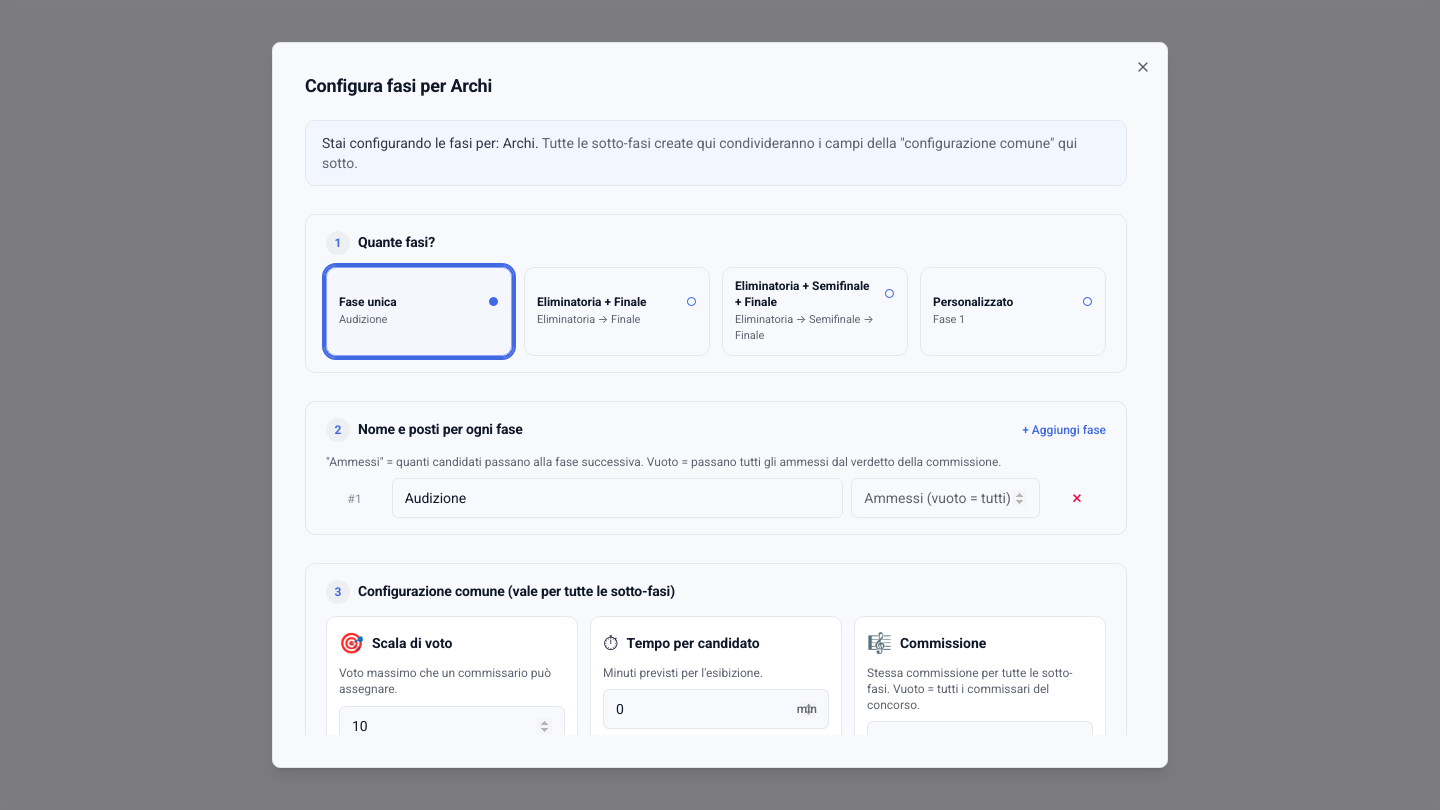
FaseWizardDialog › switching template repopulates the phase list (criteri stay intact)
Expected: the heading "Configura fasi per Archi" is shown, x1=305 y1=75 x2=492 y2=96
Expected: the field showing "Audizione" is shown, x1=392 y1=478 x2=843 y2=518
# Seleziona "Eliminatoria + Semifinale + Finale" → 3 fasi popolate.
Click the button "Eliminatoria + Semifinale + Finale".
click(815, 311)  # box x1=722 y1=266 x2=908 y2=356
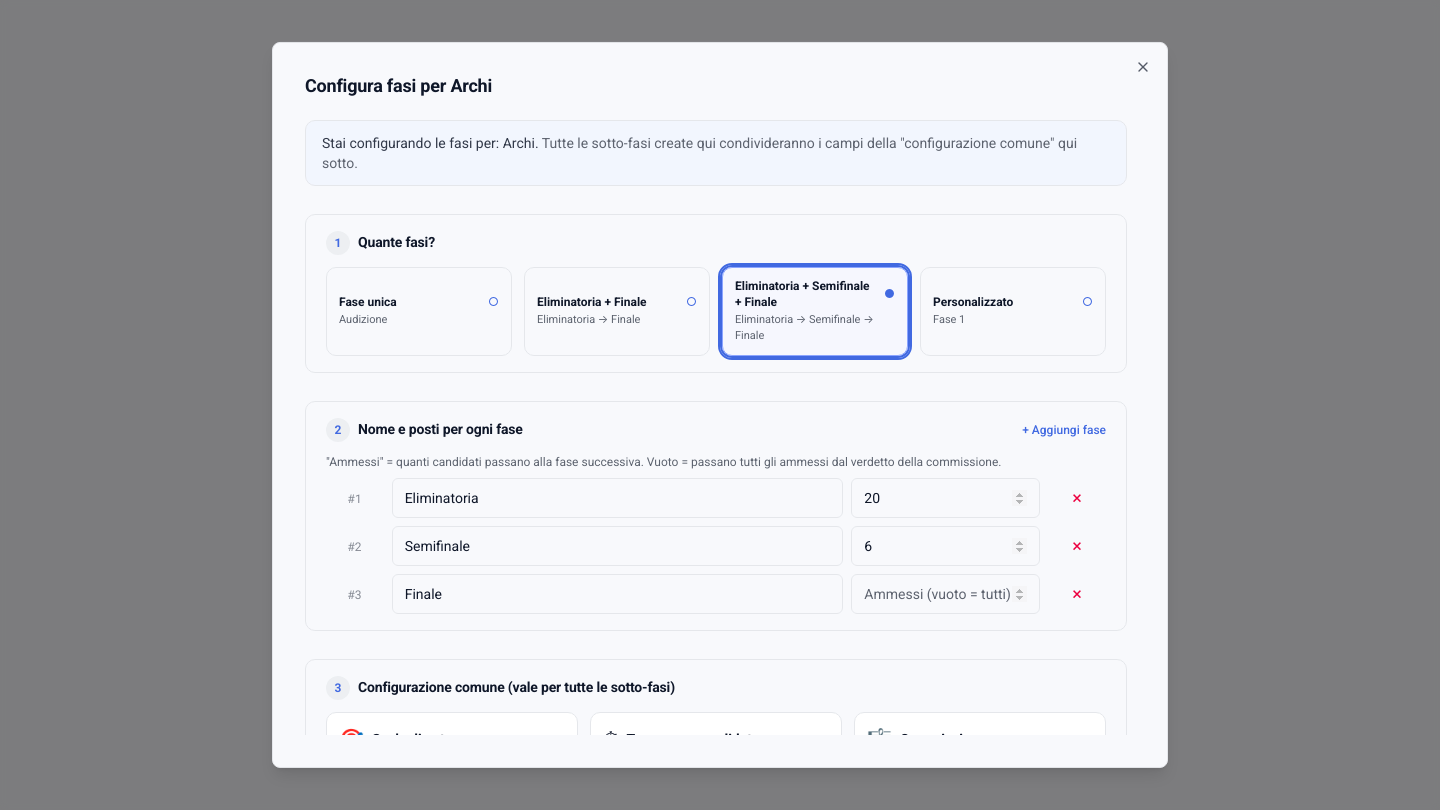
Now the 1st field showing "Eliminatoria" is shown, box x1=392 y1=478 x2=843 y2=518
Now the 2nd field showing "Semifinale" is shown, box x1=392 y1=526 x2=843 y2=566
Now the 3rd field showing "Finale" is shown, box x1=392 y1=574 x2=843 y2=614
# Tornando a "Fase unica" la lista torna a una sola fase "Audizione".
Click the button "Fase unica ○ Audizione".
click(419, 311)  # box x1=326 y1=266 x2=512 y2=356
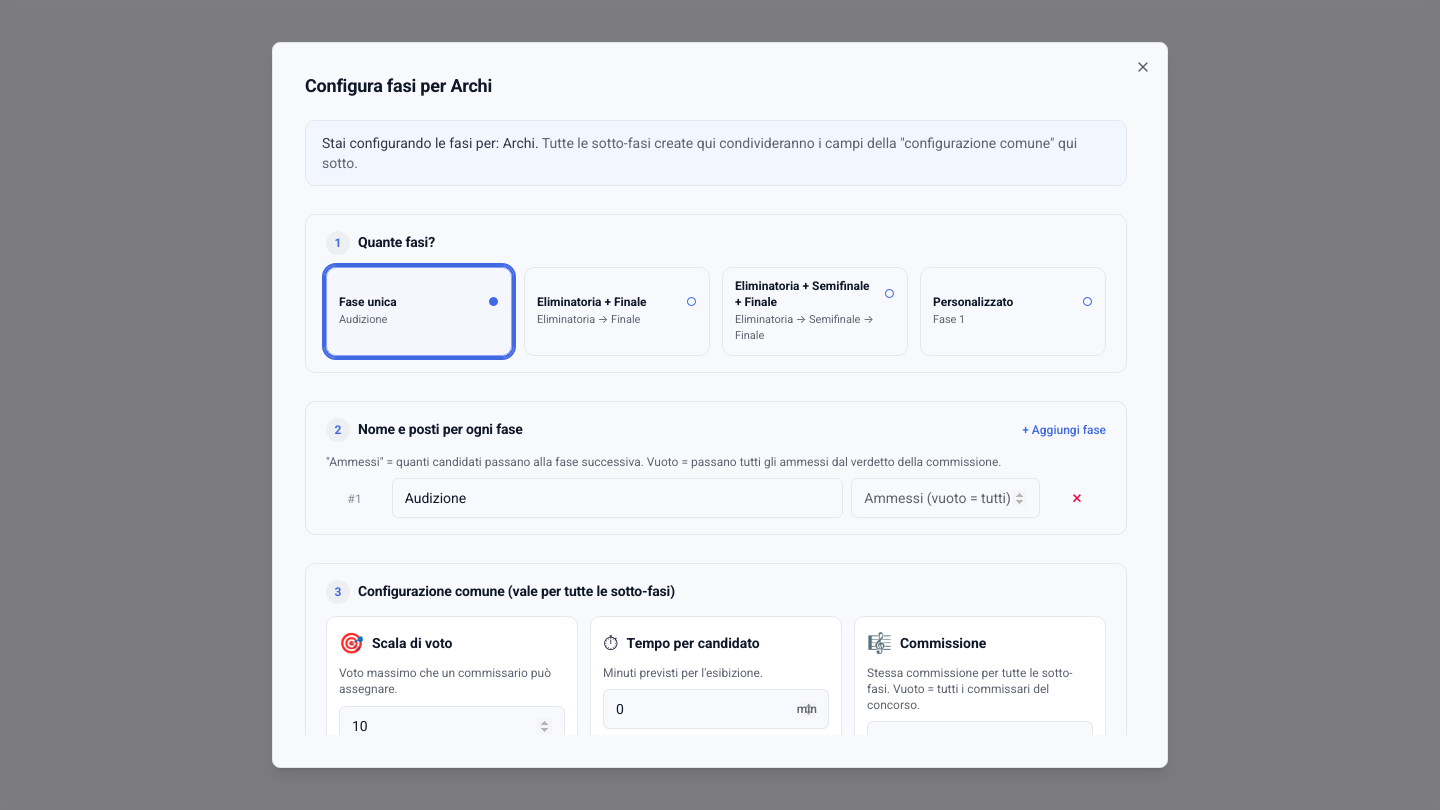
Now the field showing "Audizione" is shown, box x1=392 y1=478 x2=843 y2=518
